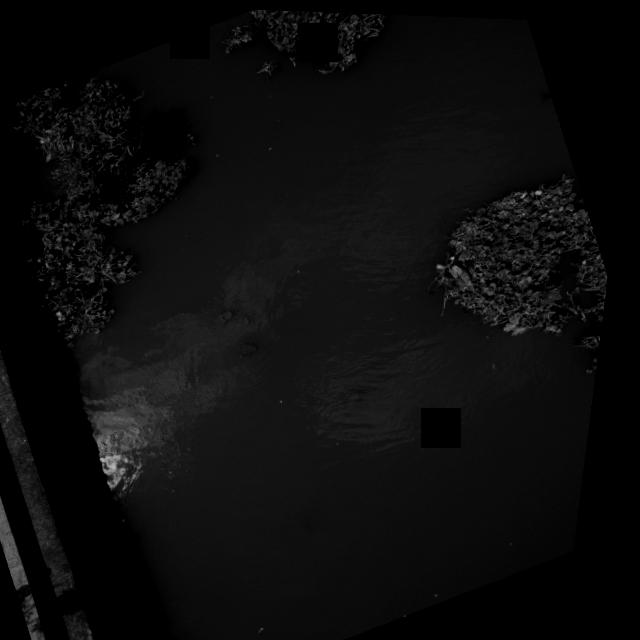plastic: (57, 306, 76, 325), (535, 182, 549, 195), (521, 185, 535, 197), (592, 361, 604, 373), (39, 138, 51, 147)
